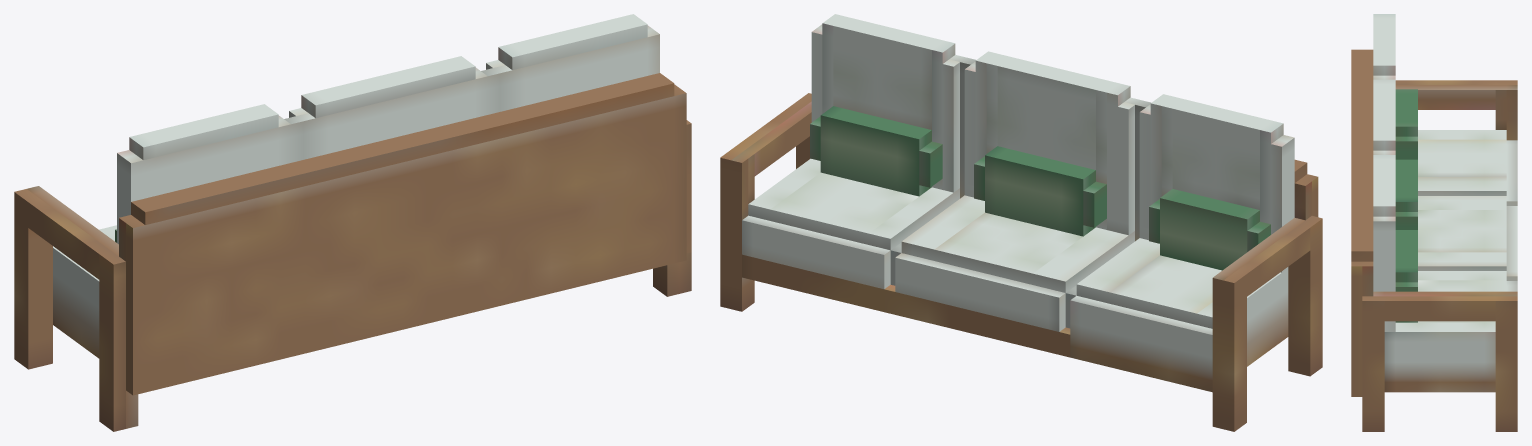
The model's file is ChairWhiteWithGreenPillowWider_00.fbx.
3 views of the same model, side by side, from view 1: azimuth 30°, elevation 25°; view 2: azimuth 150°, elevation 25°; view 3: azimuth 270°, elevation 25° (orthographic). The views are drawn at different scales.
Visible parts, largest first — view 1: ChairWhiteWithGreenPillowWider_00; view 2: ChairWhiteWithGreenPillowWider_00; view 3: ChairWhiteWithGreenPillowWider_00.
Part boxes in pixels (left/top/right/bottom): ChairWhiteWithGreenPillowWider_00: left=14, top=14, right=691, bottom=431; ChairWhiteWithGreenPillowWider_00: left=720, top=14, right=1322, bottom=431; ChairWhiteWithGreenPillowWider_00: left=1351, top=14, right=1517, bottom=431.
Bounding box in the file's own units: 235 × 75 × 105.
Materials: 1 (1 with a texture image).
